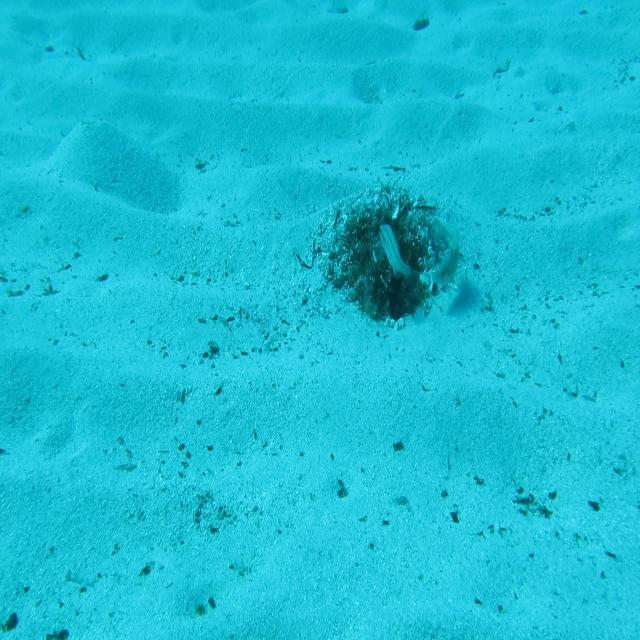DAN_CIRC: (429, 217, 463, 292)
female: (376, 220, 422, 288)
nest: (321, 184, 464, 324)
